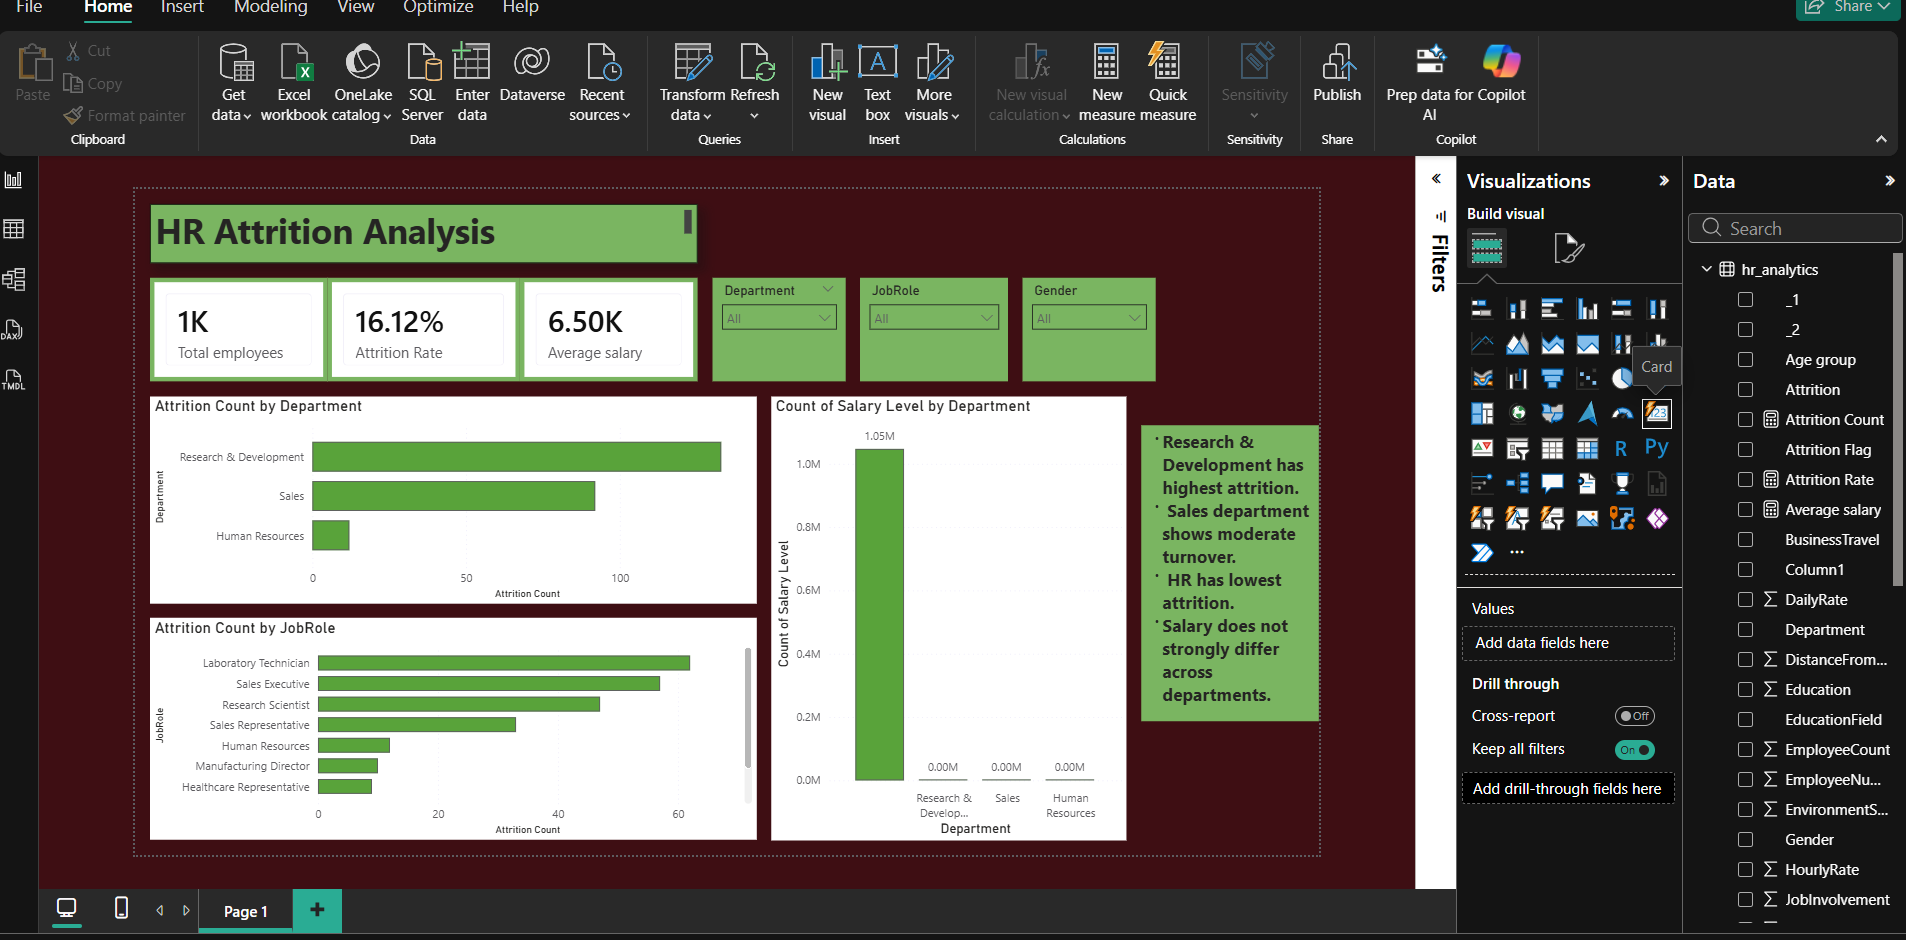

Layout of this report page (visuals, bound fields, positions):
{"tool":"powerbi","page":{"name":"Page 1","canvas":[1280,720],"ordinal":0},"visuals":[{"type":"cardVisual","fields":{"Data":["hr_analytics.Attrition Rate"]},"box":[208,96,208,112],"z":3},{"type":"cardVisual","fields":{"Data":["hr_analytics.Total employees"]},"box":[16,96,192,112],"z":5},{"type":"clusteredBarChart","fields":{"Category":["hr_analytics.Department"],"Y":["hr_analytics.Attrition Count"]},"box":[16,224,656,224],"z":6},{"type":"cardVisual","fields":{"Data":["hr_analytics.Average salary"]},"box":[416,96,192,112],"z":7},{"type":"clusteredBarChart","fields":{"Y":["hr_analytics.Attrition Count"],"Category":["hr_analytics.JobRole"]},"box":[16,464,656,240],"z":8},{"type":"columnChart","fields":{"Category":["hr_analytics.Department"],"Y":["CountNonNull(hr_analytics.Salary Level)"]},"box":[688,224,384,480],"z":9},{"type":"slicer","fields":{"Values":["hr_analytics.Department"]},"box":[624,96,144,112],"z":10},{"type":"slicer","fields":{"Values":["hr_analytics.JobRole"]},"box":[784,96,160,112],"z":11},{"type":"slicer","fields":{"Values":["hr_analytics.Gender"]},"box":[960,96,144,112],"z":12},{"type":"textbox","box":[16,16,592,64],"z":13},{"type":"textbox","box":[1088,256,192,320],"z":14}]}

Visuals, with their boxes on the page's 1280x720 design canvas (x1, y1, x2, y2). These are canvas units, not pixel positions in the 1906x940 screenshot, which may show the page scaled, cropped or inside an application window:
cardVisual - hr_analytics.Attrition Rate: 208/96/416/208
cardVisual - hr_analytics.Total employees: 16/96/208/208
clusteredBarChart - hr_analytics.Department x hr_analytics.Attrition Count: 16/224/672/448
cardVisual - hr_analytics.Average salary: 416/96/608/208
clusteredBarChart - hr_analytics.Attrition Count x hr_analytics.JobRole: 16/464/672/704
columnChart - hr_analytics.Department x CountNonNull(hr_analytics.Salary Level): 688/224/1072/704
slicer - hr_analytics.Department: 624/96/768/208
slicer - hr_analytics.JobRole: 784/96/944/208
slicer - hr_analytics.Gender: 960/96/1104/208
textbox: 16/16/608/80
textbox: 1088/256/1280/576
